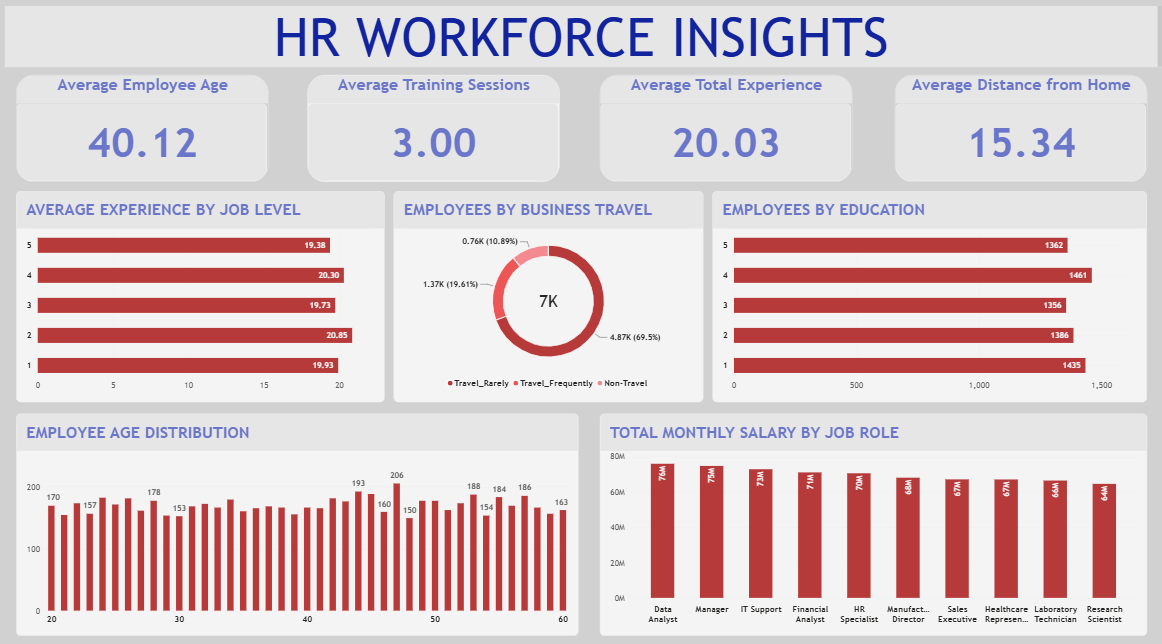

The page's visual inventory and layout, read from the dashboard file:
{"tool":"powerbi","page":{"name":"Workforce Insights","canvas":[1920,1080],"ordinal":2},"visuals":[{"type":"textbox","box":[14.4,16.5,1906,100.9],"z":0},{"type":"clusteredBarChart","title":"EMPLOYEES BY EDUCATION","fields":{"Category":["HR_Analytics_Cleaned.Education"],"Y":["Count(HR_Analytics_Cleaned.EmployeeID)"]},"box":[1179.4,321.1,716.3,347.9],"z":1},{"type":"clusteredColumnChart","title":"TOTAL MONTHLY SALARY BY JOB ROLE","fields":{"Category":["HR_Analytics_Cleaned.JobRole"],"Y":["Sum(HR_Analytics_Cleaned.MonthlyIncome)"]},"box":[994.2,687.5,901.5,366.4],"z":2},{"type":"donutChart","title":"EMPLOYEES BY BUSINESS TRAVEL","fields":{"Category":["HR_Analytics_Cleaned.BusinessTravel"],"Y":["Count(HR_Analytics_Cleaned.EmployeeID)"]},"box":[654.5,321.1,510.5,347.9],"z":3},{"type":"columnChart","title":"EMPLOYEE AGE DISTRIBUTION","fields":{"Category":["HR_Analytics_Cleaned.Age"],"Y":["Count(HR_Analytics_Cleaned.EmployeeID)"]},"box":[32.9,687.5,926.2,366.4],"z":4},{"type":"barChart","title":"AVERAGE EXPERIENCE BY JOB LEVEL","fields":{"Category":["HR_Analytics_Cleaned.JobLevel"],"Y":["Avg(HR_Analytics_Cleaned.TotalWorkingYears)"]},"box":[32.9,321.1,607.2,347.9],"z":5},{"type":"cardVisual","title":"Average Employee Age","fields":{"Data":["Avg(HR_Analytics_Cleaned.Age)"]},"box":[32.9,129.7,415.8,177],"z":6},{"type":"cardVisual","title":"Average Total Experience","fields":{"Data":["Avg(HR_Analytics_Cleaned.TotalWorkingYears)"]},"box":[994.2,129.7,415.8,177],"z":7},{"type":"cardVisual","title":"Average Training Sessions","fields":{"Data":["Avg(HR_Analytics_Cleaned.TrainingTimesLastYear)"]},"box":[512.5,129.7,415.8,177],"z":8},{"type":"cardVisual","title":"Average Distance from Home","fields":{"Data":["Avg(HR_Analytics_Cleaned.DistanceFromHome)"]},"box":[1479.9,129.7,415.8,177],"z":9}]}

Visuals, with their boxes in screenshot pixels (x1, y1, x2, y2), scaled from the page's 1920x1080 canvas onto the 1162x644 screenshot:
textbox: 9:10:1161:70
"EMPLOYEES BY EDUCATION" clusteredBarChart: 714:191:1147:399
"TOTAL MONTHLY SALARY BY JOB ROLE" clusteredColumnChart: 602:410:1147:628
"EMPLOYEES BY BUSINESS TRAVEL" donutChart: 396:191:705:399
"EMPLOYEE AGE DISTRIBUTION" columnChart: 20:410:580:628
"AVERAGE EXPERIENCE BY JOB LEVEL" barChart: 20:191:387:399
"Average Employee Age" cardVisual: 20:77:272:183
"Average Total Experience" cardVisual: 602:77:853:183
"Average Training Sessions" cardVisual: 310:77:562:183
"Average Distance from Home" cardVisual: 896:77:1147:183
